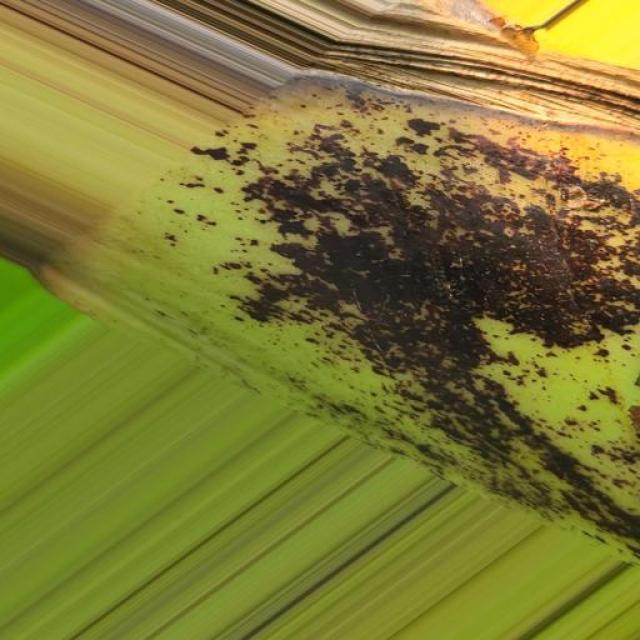Anthracnose: (105, 0, 640, 594)
